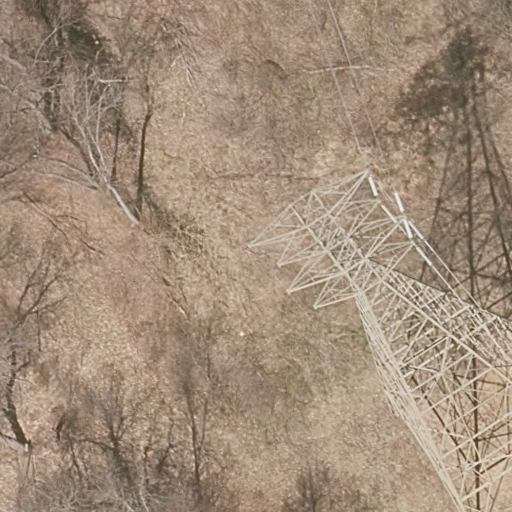TT: (248, 169, 512, 512)
